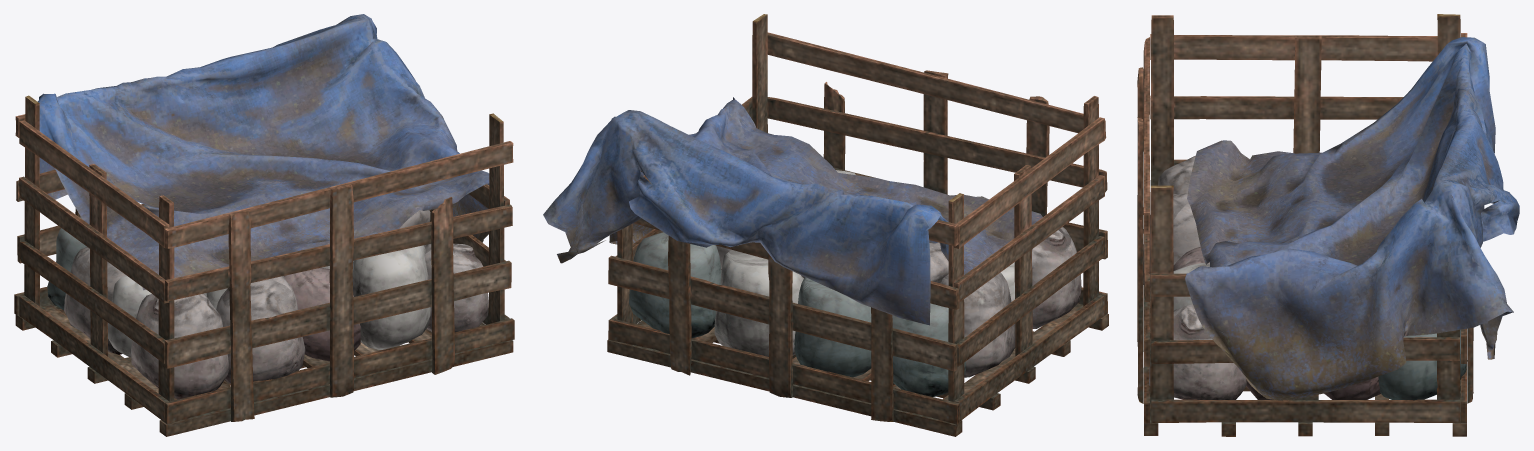
Rendered from SM_Crate05.fbx.
The picture shows the model from 3 angles, left to right: view 1: azimuth 30°, elevation 25°; view 2: azimuth 150°, elevation 25°; view 3: azimuth 270°, elevation 25°; orthographic projection. The views are drawn at different scales.
Visible parts, largest first — view 1: SM_Crate04.mo; view 2: SM_Crate04.mo; view 3: SM_Crate04.mo.
Part boxes in pixels (box(x1,y1,x2,y2)): SM_Crate04.mo: box(14, 14, 514, 436); SM_Crate04.mo: box(543, 14, 1108, 436); SM_Crate04.mo: box(1137, 14, 1519, 436).
Size of the model in its own units: 228 by 130 by 180.
